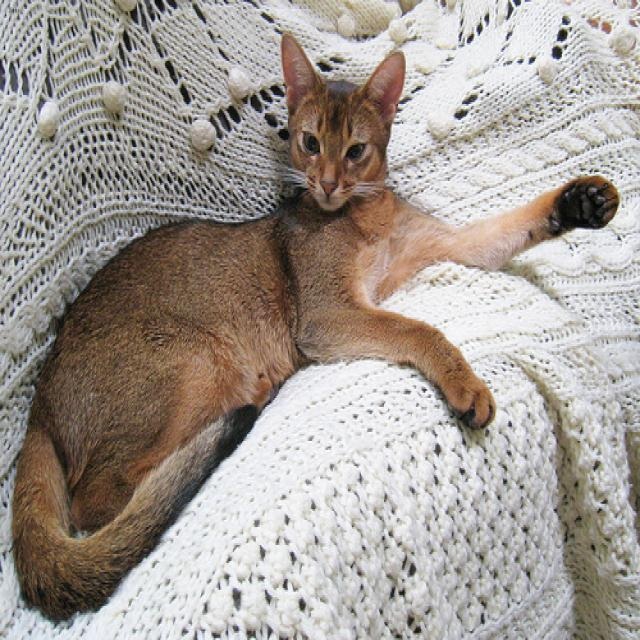Abyssinian: (273, 27, 411, 219)
